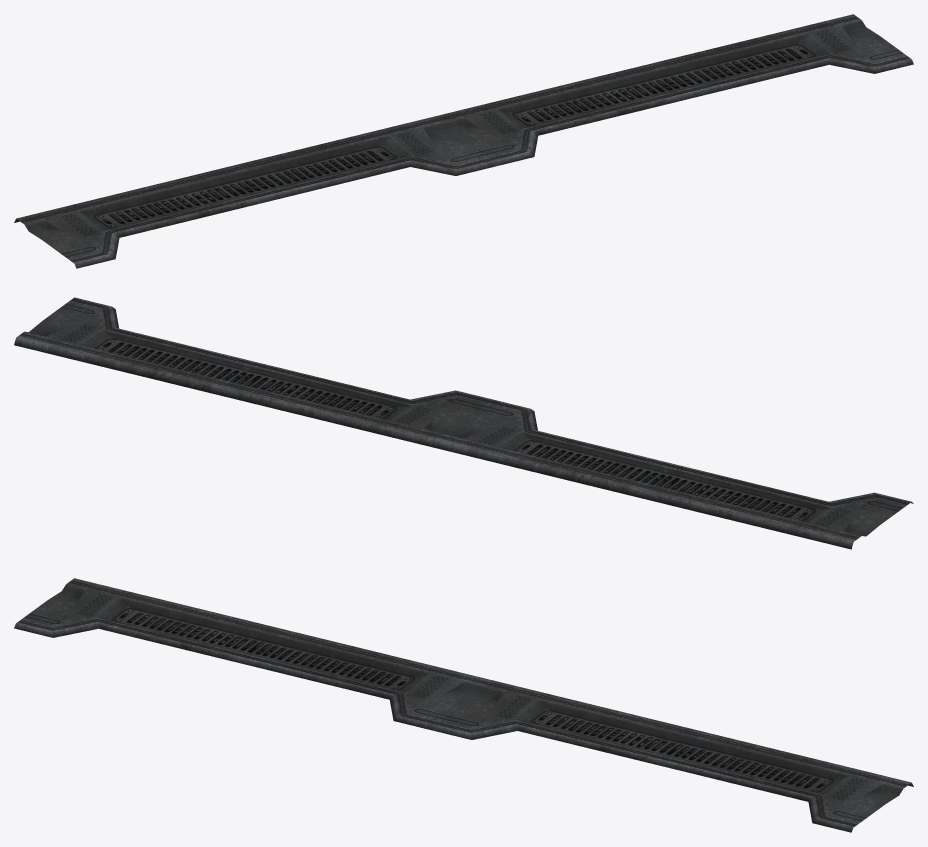
The model's file is living_area_welder_metal_thick.dae.
3 views of the same model, one above another, from view 1: azimuth 30°, elevation 25°; view 2: azimuth 150°, elevation 25°; view 3: azimuth 330°, elevation 25° (orthographic).
Parts seen in each view (by area): view 1: polySurface138; view 2: polySurface138; view 3: polySurface138.
Part boxes in pixels (x1,y1,x2,y2): polySurface138: (14, 14, 913, 268); polySurface138: (14, 297, 913, 549); polySurface138: (14, 578, 913, 832).
Size of the model in its own units: 4 by 0.0276 by 0.5167.
1 material, 1 textured.
